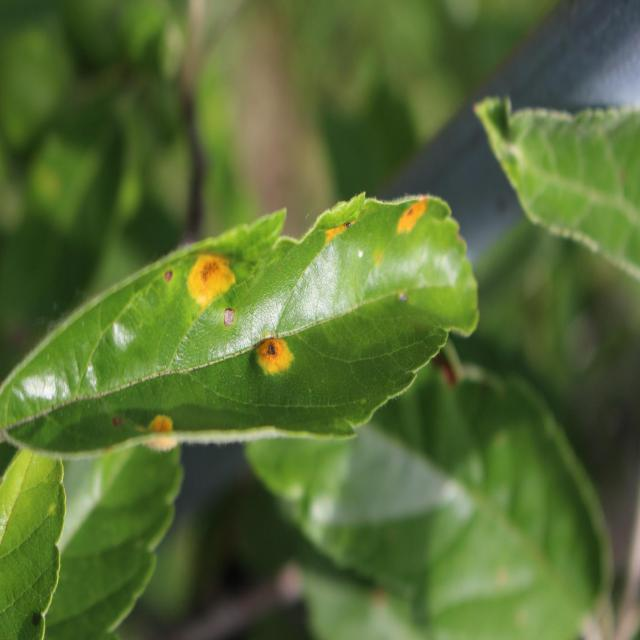Rust: (188, 241, 246, 312), (247, 334, 297, 386), (316, 214, 368, 257), (143, 402, 185, 455), (393, 196, 437, 240)
